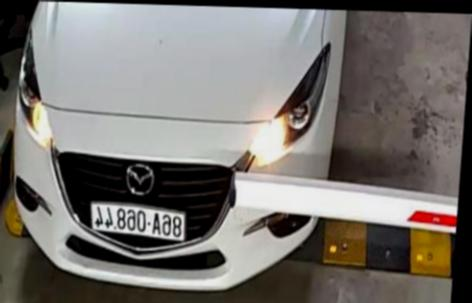License_Plate: (91, 200, 189, 238)
